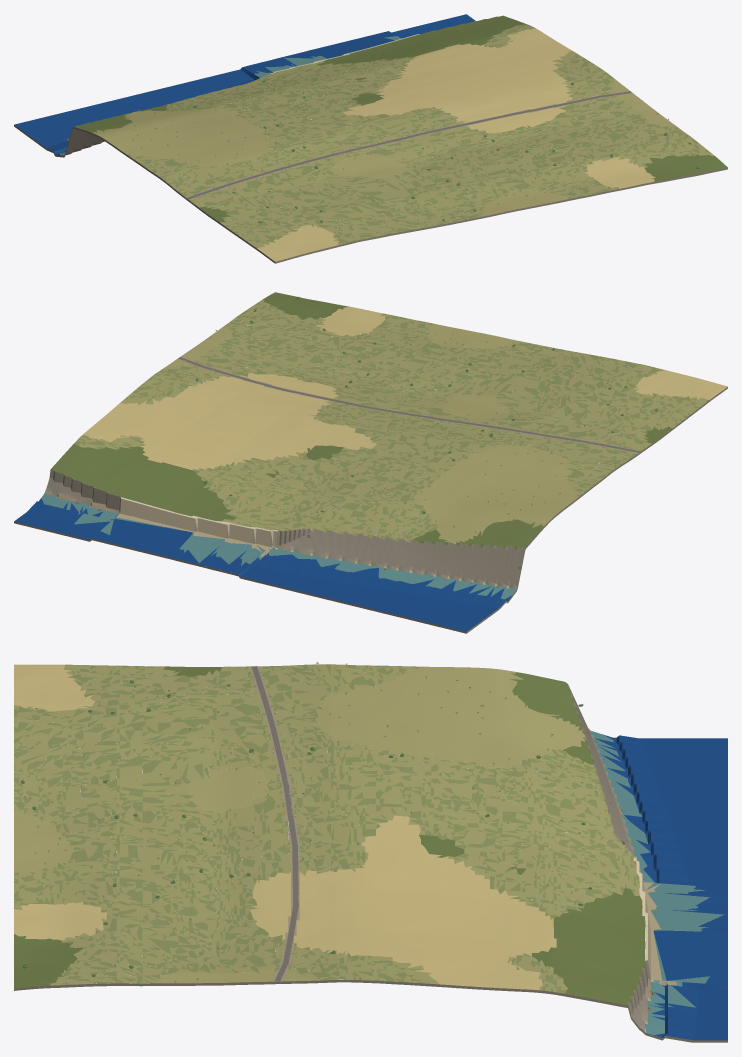
File: parca_+8_+2-yakin.glb
The picture shows the model from 3 angles, top to bottom: view 1: azimuth 30°, elevation 25°; view 2: azimuth 150°, elevation 25°; view 3: azimuth 270°, elevation 25°; orthographic projection. The views are drawn at different scales.
Parts seen in each view (by area): view 1: parca_+8_+2_arazi, parca_+8_+2_yollar, parca_+8_+2_bitkiler; view 2: parca_+8_+2_arazi, parca_+8_+2_yollar, parca_+8_+2_bitkiler; view 3: parca_+8_+2_arazi, parca_+8_+2_yollar, parca_+8_+2_bitkiler.
Part boxes in pixels (bbox=[...]): parca_+8_+2_arazi: bbox=[14, 14, 727, 263]; parca_+8_+2_yollar: bbox=[186, 91, 631, 199]; parca_+8_+2_bitkiler: bbox=[66, 17, 699, 236]; parca_+8_+2_arazi: bbox=[14, 292, 727, 633]; parca_+8_+2_yollar: bbox=[178, 357, 640, 452]; parca_+8_+2_bitkiler: bbox=[69, 297, 657, 568]; parca_+8_+2_arazi: bbox=[14, 664, 727, 1042]; parca_+8_+2_yollar: bbox=[251, 666, 298, 981]; parca_+8_+2_bitkiler: bbox=[20, 662, 647, 1001].
Bounding box in the file's own units: 1004 × 128 × 1000.
